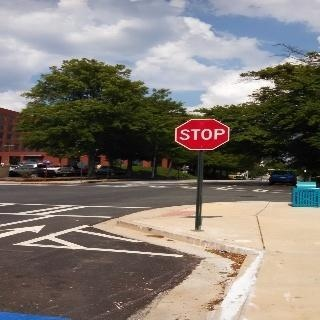sign_stop: (175, 119, 228, 150)
